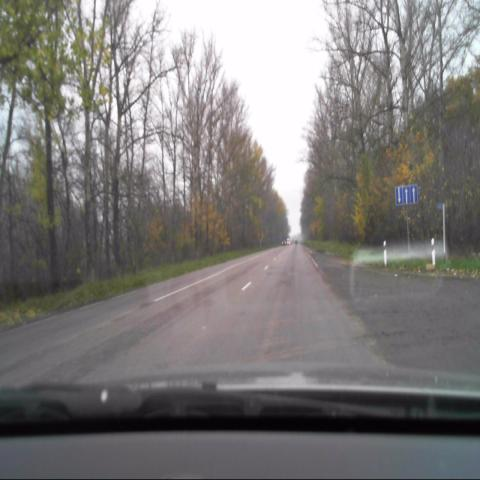5_15_7: (396, 185, 418, 204)
